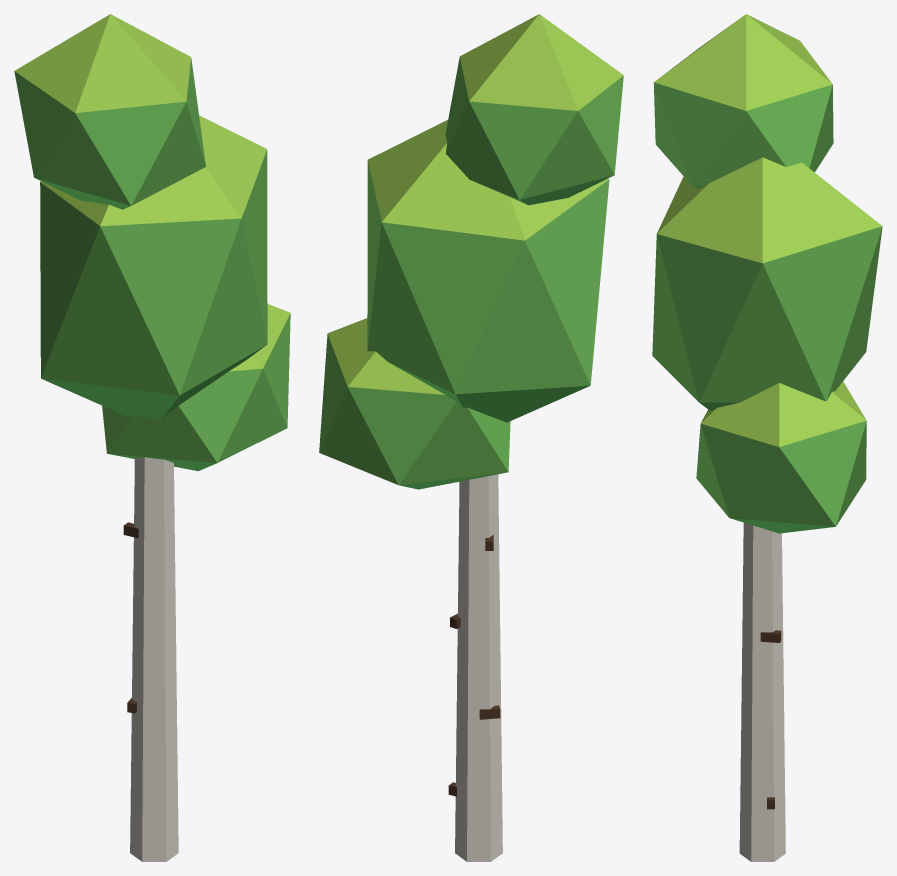
Rendered from Tree_Birch_A.fbx.
The picture shows the model from 3 angles, left to right: view 1: azimuth 30°, elevation 25°; view 2: azimuth 150°, elevation 25°; view 3: azimuth 270°, elevation 25°; orthographic projection. The views are drawn at different scales.
Visible parts, largest first — view 1: Tree_Birch_A; view 2: Tree_Birch_A; view 3: Tree_Birch_A.
Part boxes in pixels (bbox=[...]): Tree_Birch_A: bbox=[14, 14, 290, 861]; Tree_Birch_A: bbox=[319, 14, 623, 861]; Tree_Birch_A: bbox=[652, 14, 882, 861].
Size of the model in its own units: 1.82 by 5.45 by 1.4.
1 material, 1 textured.
